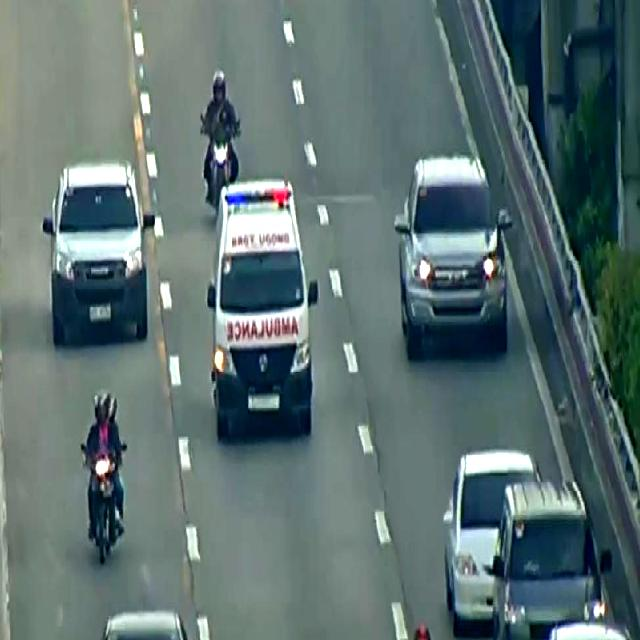emergency: (206, 181, 323, 435)
